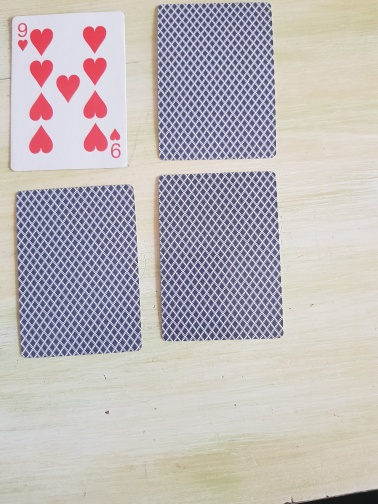nine: (9, 10, 129, 173)
